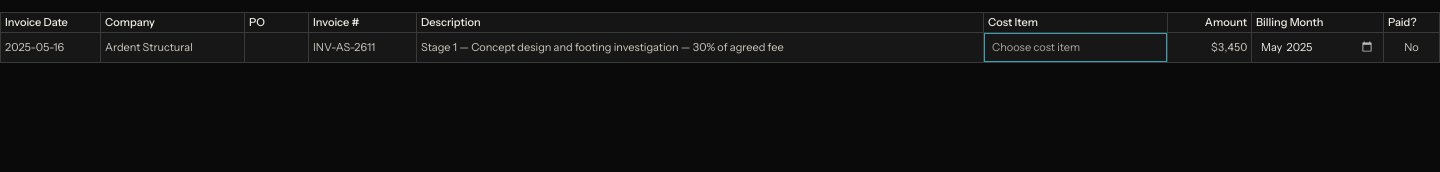
Test: CostInvoiceRegister › retries a stale Cost Plan version instead of dropping the mapping
Select "6 · Structural engineer" in the dropdown named "cost item for invoice INV-AS-2611" at (1076, 47), box [988,35,1163,59]
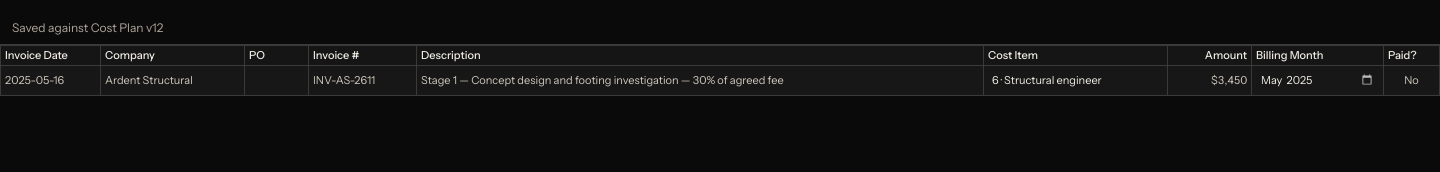
Now the text "Saved against Cost Plan v12" is shown, box [0,12,1439,45]
